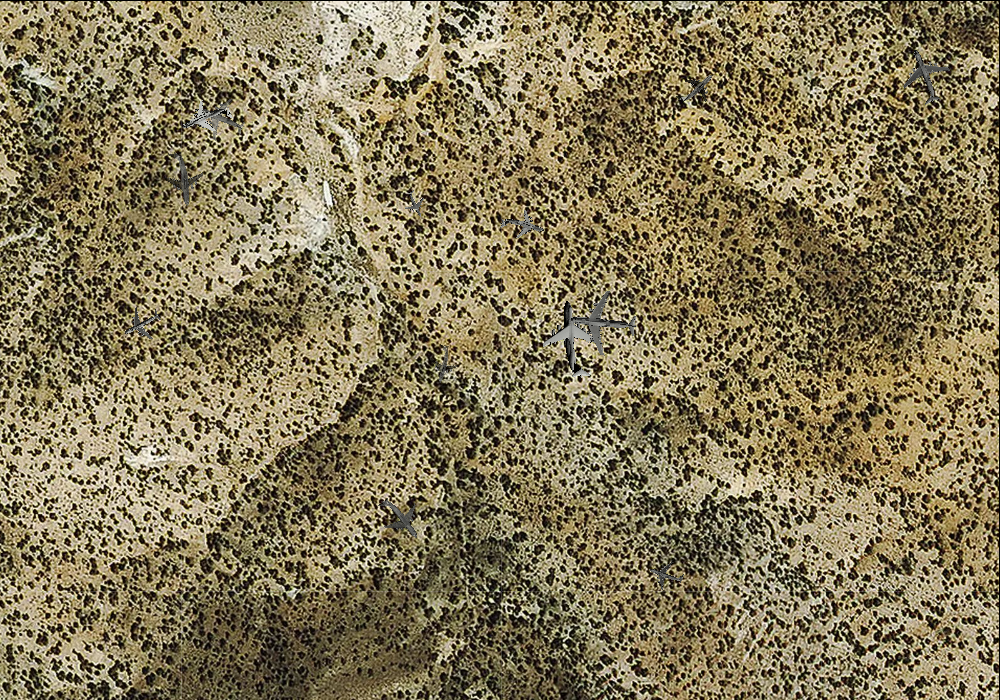plane: (537, 298, 609, 380), (563, 286, 640, 358), (889, 39, 960, 112), (366, 485, 433, 553), (188, 87, 252, 150), (174, 88, 239, 149), (154, 148, 208, 208), (667, 59, 724, 115), (115, 298, 167, 349), (495, 201, 549, 250), (643, 552, 689, 596), (421, 340, 463, 387), (397, 185, 433, 222)
